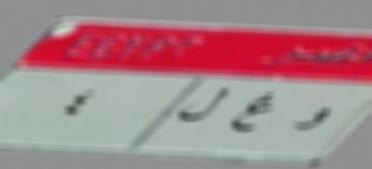4: (56, 84, 98, 124)
ghayn: (232, 89, 272, 139)
laam: (179, 81, 228, 132)
waw: (292, 104, 334, 141)
